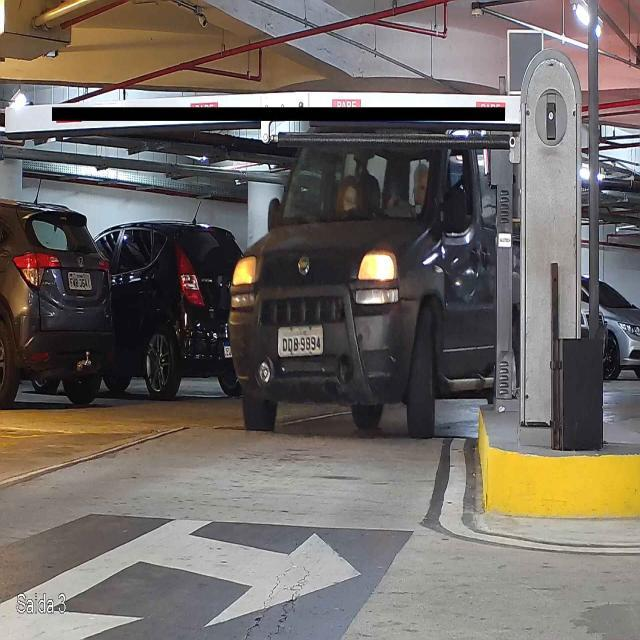old_plate: (276, 324, 325, 359)
